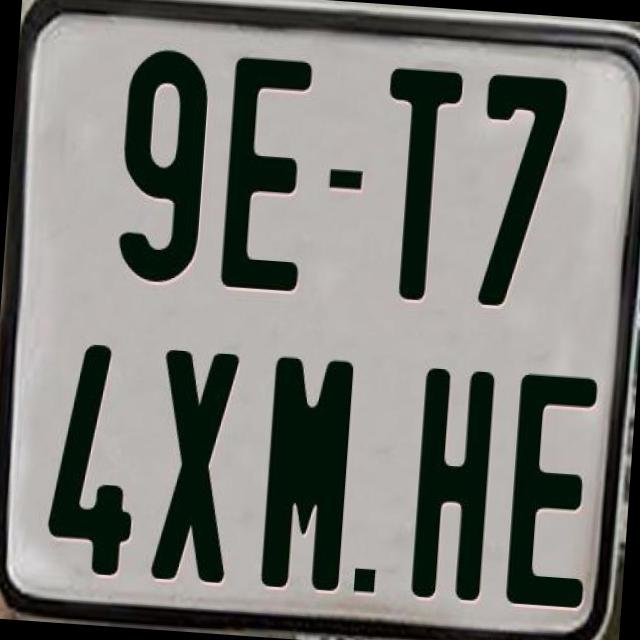4: (42, 339, 145, 576)
7: (469, 74, 568, 318)
9: (113, 42, 215, 282)
E: (217, 51, 316, 293), (504, 370, 600, 608)
H: (410, 368, 496, 600)
M: (255, 356, 358, 596)
T: (375, 61, 466, 298)
X: (150, 345, 244, 585)
